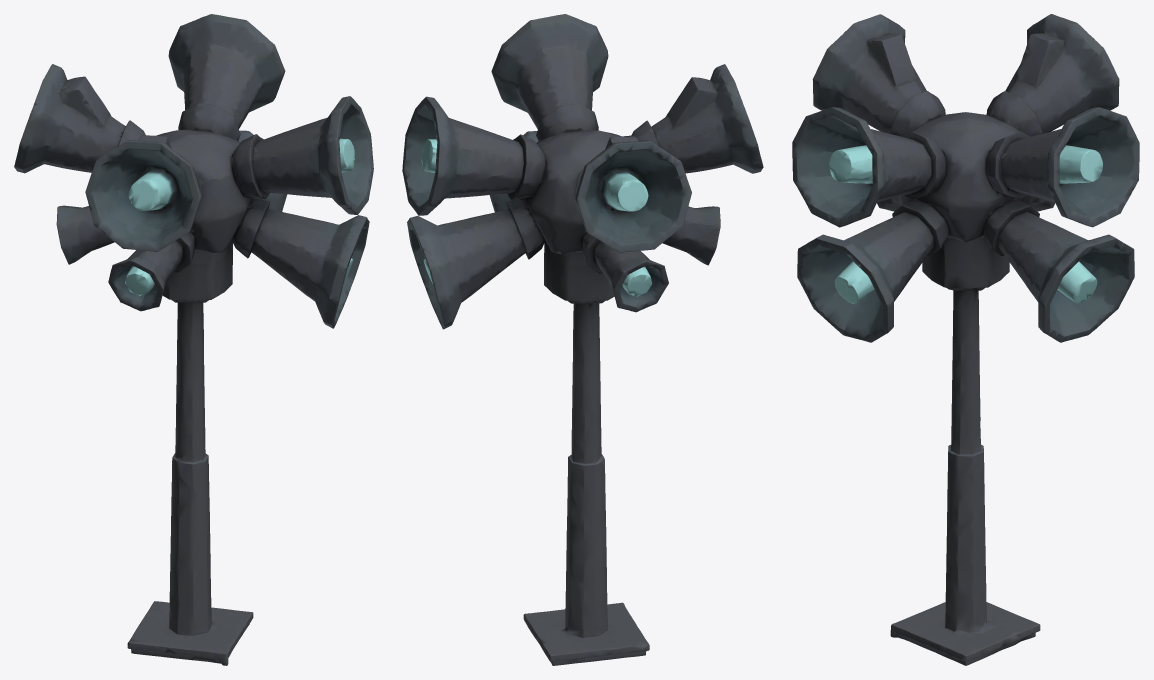
Rendered from klaxon.glb.
3 views of the same model, side by side, from view 1: azimuth 30°, elevation 25°; view 2: azimuth 150°, elevation 25°; view 3: azimuth 270°, elevation 25° (orthographic). The views are drawn at different scales.
Visible parts, largest first — view 1: tripo_node_2e335814-6183-41c4-bb0e-180f7be02c33; view 2: tripo_node_2e335814-6183-41c4-bb0e-180f7be02c33; view 3: tripo_node_2e335814-6183-41c4-bb0e-180f7be02c33.
Boxes of the visible parts, <box> form: tripo_node_2e335814-6183-41c4-bb0e-180f7be02c33: <box>14,14,373,665</box>; tripo_node_2e335814-6183-41c4-bb0e-180f7be02c33: <box>402,14,763,665</box>; tripo_node_2e335814-6183-41c4-bb0e-180f7be02c33: <box>792,14,1139,665</box>.
Size of the model in its own units: 1.03 by 2 by 1.1.
Materials: 1 (1 with a texture image).
